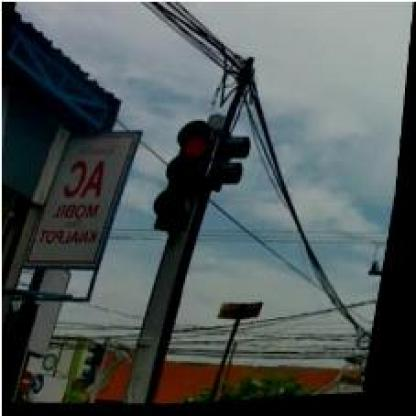red: (155, 118, 226, 234)
